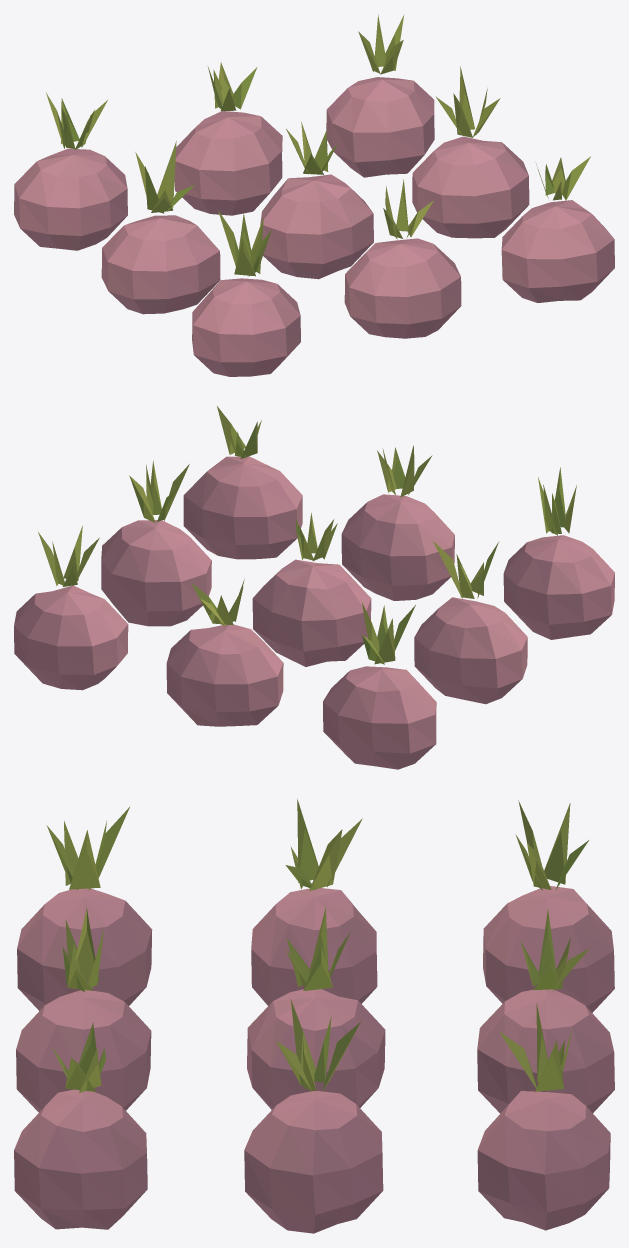
Rendered from turnip.glb.
The picture shows the model from 3 angles, top to bottom: view 1: azimuth 30°, elevation 25°; view 2: azimuth 150°, elevation 25°; view 3: azimuth 270°, elevation 25°; orthographic projection. The views are drawn at different scales.
Visible parts, largest first — view 1: turnip; view 2: turnip; view 3: turnip.
Boxes of the visible parts, <box> form: turnip: <box>14,14,614,376</box>; turnip: <box>14,406,614,769</box>; turnip: <box>14,799,614,1233</box>.
Size of the model in its own units: 0.9425 by 0.3377 by 0.8813.
